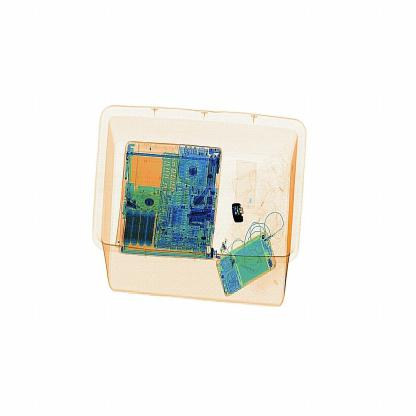wrench: (220, 189, 250, 228)
